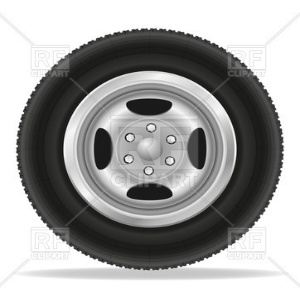tire: (14, 27, 285, 273)
